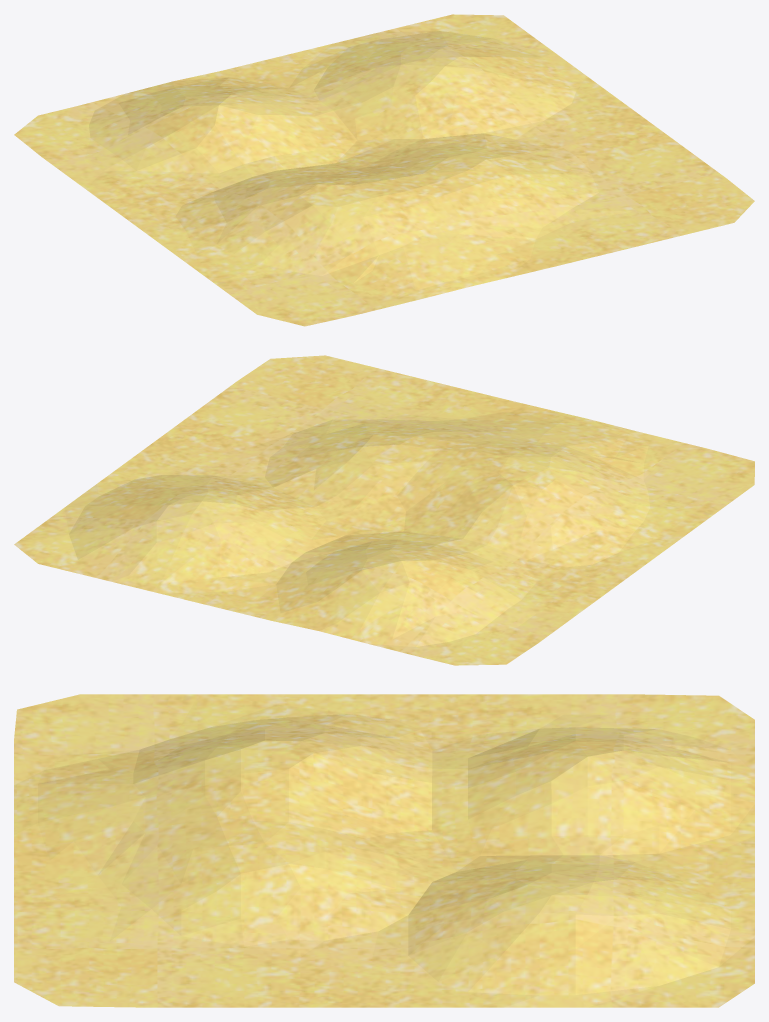
Rendered from sandhill3.fbx.
3 views of the same model, one above another, from view 1: azimuth 30°, elevation 25°; view 2: azimuth 150°, elevation 25°; view 3: azimuth 270°, elevation 25° (orthographic). The views are drawn at different scales.
Parts seen in each view (by area): view 1: Grid#2, Grid#3; view 2: Grid#2, Grid#3; view 3: Grid#2, Grid#3.
Boxes of the visible parts, left/top/right/bottom form: Grid#2: left=14, top=14, right=754, bottom=326; Grid#3: left=39, top=15, right=743, bottom=315; Grid#2: left=14, top=355, right=754, bottom=665; Grid#3: left=16, top=358, right=736, bottom=664; Grid#2: left=14, top=694, right=754, bottom=1007; Grid#3: left=14, top=694, right=754, bottom=1007.
Size of the model in its own units: 10 by 0.5616 by 10.
Materials: 1 (1 with a texture image).
